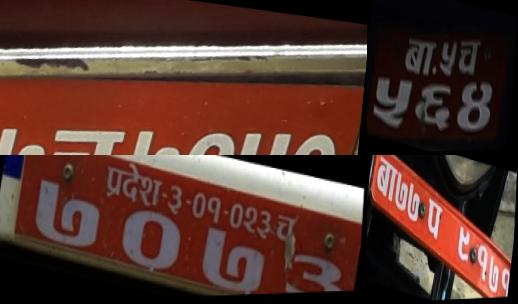0: (117, 200, 187, 280), (274, 127, 349, 155), (227, 201, 246, 236), (189, 189, 208, 223)
1: (169, 122, 247, 155), (203, 192, 225, 229), (475, 243, 491, 285), (500, 265, 512, 299)
2: (241, 204, 260, 240)
3: (280, 246, 353, 296), (164, 183, 187, 221), (254, 208, 275, 247)
4: (455, 73, 498, 148)
5: (370, 65, 416, 140), (220, 127, 298, 155), (436, 34, 460, 84)
6: (414, 74, 457, 144)
7: (30, 170, 108, 259), (197, 222, 272, 298), (116, 118, 194, 155), (0, 122, 56, 155), (405, 178, 424, 225), (486, 254, 503, 299), (393, 168, 410, 210)
9: (455, 225, 474, 267)
ba: (402, 29, 439, 83), (374, 155, 399, 207)
cha: (33, 120, 130, 155), (456, 33, 483, 83), (273, 210, 300, 252)
pa: (421, 192, 446, 244)
